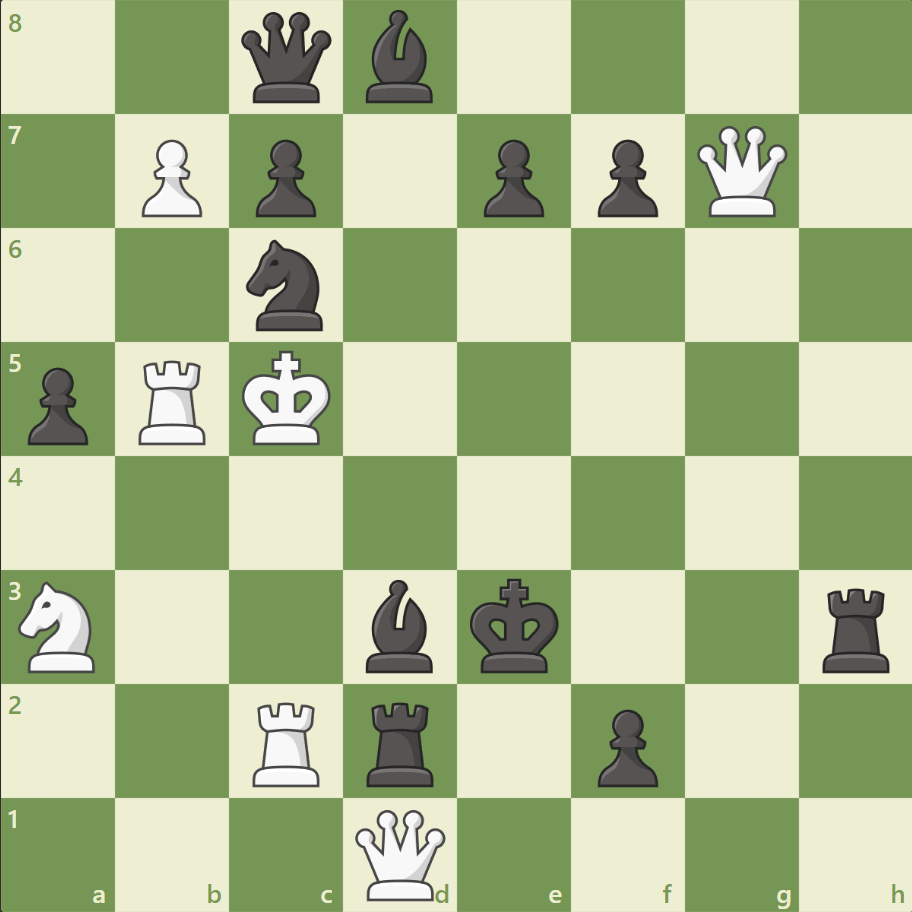K: (238, 344, 338, 452)
N: (11, 575, 108, 677)
P: (133, 132, 208, 223)
Q: (691, 122, 790, 222), (351, 804, 450, 903)
R: (246, 693, 329, 790), (133, 352, 215, 449)
b: (358, 6, 442, 109), (358, 574, 442, 676)
k: (465, 571, 565, 679)
n: (238, 234, 335, 337)
p: (247, 132, 322, 223), (474, 132, 549, 223), (20, 359, 95, 450), (588, 132, 662, 223), (588, 700, 662, 791)
q: (237, 9, 336, 108)
r: (814, 579, 897, 676), (360, 693, 442, 790)
